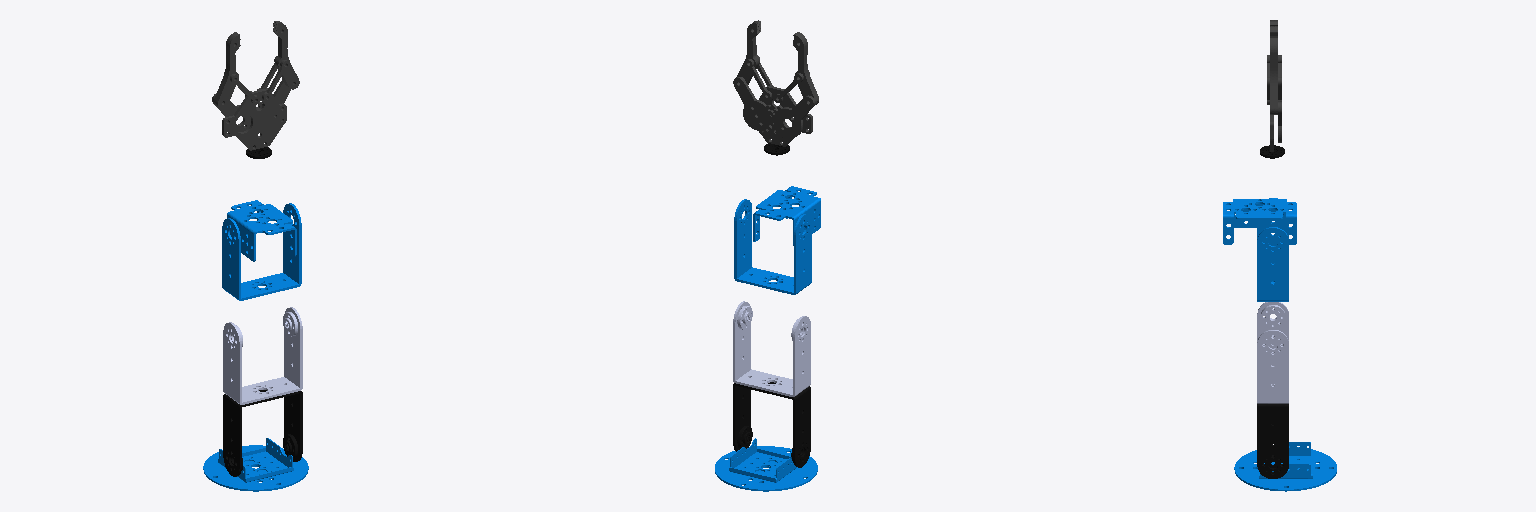
URDF robot description (three in one modify.SLDASM):
<?xml version="1.0" encoding="utf-8"?>
<!-- This URDF was automatically created by SolidWorks to URDF Exporter! Originally created by [author] ([email redacted]) 
     Commit Version: 1.5.0-0-g9aa0fdb  Build Version: 1.5.7004.21443
     For more information, please see http://wiki.ros.org/sw_urdf_exporter -->
<robot
  name="three in one modify.SLDASM">
  <link
    name="base_link">
    <inertial>
      <origin
        xyz="-0.00346933945456242 -0.187455100746242 0.344863277084193"
        rpy="0 0 0" />
      <mass
        value="0.000649886540879608" />
      <inertia
        ixx="1.57694089739825E-08"
        ixy="-1.85712509371615E-11"
        ixz="-1.05002104224578E-14"
        iyy="1.58132571662871E-08"
        iyz="5.0387453413164E-14"
        izz="3.00533238555579E-08" />
    </inertial>
    <visual>
      <origin
        xyz="0 0 0"
        rpy="0 0 0" />
      <geometry>
        <mesh
          filename="package://three in one modify.SLDASM/meshes/base_link.STL" />
      </geometry>
      <material
        name="">
        <color
          rgba="0.0980392156862745 0.0980392156862745 0.0980392156862745 1" />
      </material>
    </visual>
    <collision>
      <origin
        xyz="0 0 0"
        rpy="0 0 0" />
      <geometry>
        <mesh
          filename="package://three in one modify.SLDASM/meshes/base_link.STL" />
      </geometry>
    </collision>
  </link>
  <link
    name="plate_Link">
    <inertial>
      <origin
        xyz="0.00307787898294945 -0.212063205851944 -0.0162575190734835"
        rpy="0 0 0" />
      <mass
        value="0.33999524895747" />
      <inertia
        ixx="0.000521431563785852"
        ixy="-7.44439971942014E-09"
        ixz="-5.60683966135022E-09"
        iyy="0.00068679188020829"
        iyz="1.70292938581666E-08"
        izz="0.000206853385790905" />
    </inertial>
    <visual>
      <origin
        xyz="0 0 0"
        rpy="0 0 0" />
      <geometry>
        <mesh
          filename="package://three in one modify.SLDASM/meshes/plate_Link.STL" />
      </geometry>
      <material
        name="">
        <color
          rgba="0.0980392156862745 0.0980392156862745 0.0980392156862745 1" />
      </material>
    </visual>
    <collision>
      <origin
        xyz="0 0 0"
        rpy="0 0 0" />
      <geometry>
        <mesh
          filename="package://three in one modify.SLDASM/meshes/plate_Link.STL" />
      </geometry>
    </collision>
  </link>
  <joint
    name="plate_joint"
    type="revolute">
    <origin
      xyz="-0.00346935049207066 -0.185955046190881 0.344267945595491"
      rpy="1.5707963267949 0 0" />
    <parent
      link="base_link" />
    <child
      link="plate_Link" />
    <axis
      xyz="0 1 0" />
    <limit
      lower="-1"
      upper="1"
      effort="1000"
      velocity="2" />
    <safety_controller
      k_velocity="0" />
  </joint>
  <link
    name="left_knuckle_Link">
    <inertial>
      <origin
        xyz="-0.0102903979344891 0.00212702235552203 0.00553725280320078"
        rpy="0 0 0" />
      <mass
        value="0.00670041655240986" />
      <inertia
        ixx="9.07025861316121E-07"
        ixy="-9.76336018478275E-08"
        ixz="-1.4425647357174E-14"
        iyy="9.47619204261119E-07"
        iyz="-1.54390617401213E-13"
        izz="1.84459409869109E-06" />
    </inertial>
    <visual>
      <origin
        xyz="0 0 0"
        rpy="0 0 0" />
      <geometry>
        <mesh
          filename="package://three in one modify.SLDASM/meshes/left_knuckle_Link.STL" />
      </geometry>
      <material
        name="">
        <color
          rgba="0.298039215686275 0.298039215686275 0.298039215686275 1" />
      </material>
    </visual>
    <collision>
      <origin
        xyz="0 0 0"
        rpy="0 0 0" />
      <geometry>
        <mesh
          filename="package://three in one modify.SLDASM/meshes/left_knuckle_Link.STL" />
      </geometry>
    </collision>
  </link>
  <joint
    name="left_knuckle_joint"
    type="revolute">
    <origin
      xyz="0.011771 -0.17996 0.37242"
      rpy="1.5708 0 0" />
    <parent
      link="base_link" />
    <child
      link="left_knuckle_Link" />
    <axis
      xyz="0 0 -1" />
    <limit
      lower="-1"
      upper="1"
      effort="1000"
      velocity="2" />
    <safety_controller
      k_velocity="0" />
  </joint>
  <link
    name="right_knuckle_Link">
    <inertial>
      <origin
        xyz="0.0053270533216794 0.00429884669473102 0.00561697418736173"
        rpy="0 0 0" />
      <mass
        value="0.0065706650220916" />
      <inertia
        ixx="8.77365661165877E-07"
        ixy="1.45077204156848E-07"
        ixz="-1.14194769459354E-14"
        iyy="9.69880856340976E-07"
        iyz="-3.17392529864133E-14"
        izz="1.83739003819251E-06" />
    </inertial>
    <visual>
      <origin
        xyz="0 0 0"
        rpy="0 0 0" />
      <geometry>
        <mesh
          filename="package://three in one modify.SLDASM/meshes/right_knuckle_Link.STL" />
      </geometry>
      <material
        name="">
        <color
          rgba="0.298039215686275 0.298039215686275 0.298039215686275 1" />
      </material>
    </visual>
    <collision>
      <origin
        xyz="0 0 0"
        rpy="0 0 0" />
      <geometry>
        <mesh
          filename="package://three in one modify.SLDASM/meshes/right_knuckle_Link.STL" />
      </geometry>
    </collision>
  </link>
  <joint
    name="right_knuckle_joint"
    type="revolute">
    <origin
      xyz="-0.0149074003045468 -0.17995504619088 0.370196071373096"
      rpy="1.5707963267949 0 0" />
    <parent
      link="base_link" />
    <child
      link="right_knuckle_Link" />
    <axis
      xyz="0 0 -1" />
    <limit
      lower="-1"
      upper="1"
      effort="1000"
      velocity="2" />
    <safety_controller
      k_velocity="0" />
  </joint>
  <link
    name="left_upperknuckle_Link">
    <inertial>
      <origin
        xyz="0.00101037954300925 0.00460141507644329 0.0107840374566842"
        rpy="0 0 0" />
      <mass
        value="0.00495743586878886" />
      <inertia
        ixx="1.2489998164633E-06"
        ixy="-1.63217244588323E-13"
        ixz="1.35705432813109E-14"
        iyy="2.23019060664547E-07"
        iyz="-2.8733388356579E-08"
        izz="1.03341714734279E-06" />
    </inertial>
    <visual>
      <origin
        xyz="0 0 0"
        rpy="0 0 0" />
      <geometry>
        <mesh
          filename="package://three in one modify.SLDASM/meshes/left_upperknuckle_Link.STL" />
      </geometry>
      <material
        name="">
        <color
          rgba="0.298039215686275 0.298039215686275 0.298039215686275 1" />
      </material>
    </visual>
    <collision>
      <origin
        xyz="0 0 0"
        rpy="0 0 0" />
      <geometry>
        <mesh
          filename="package://three in one modify.SLDASM/meshes/left_upperknuckle_Link.STL" />
      </geometry>
    </collision>
  </link>
  <joint
    name="left_upperknuckle_joint"
    type="revolute">
    <origin
      xyz="0.028072 -0.18296 0.39641"
      rpy="1.5708 0 -1.5708" />
    <parent
      link="base_link" />
    <child
      link="left_upperknuckle_Link" />
    <axis
      xyz="1 0 0" />
    <limit
      lower="-1"
      upper="1"
      effort="1000"
      velocity="2" />
    <safety_controller
      k_velocity="0" />
  </joint>
  <link
    name="right_upperknuckle_Link">
    <inertial>
      <origin
        xyz="0.00107784632695287 0.00627599956016872 -0.00915527995590619"
        rpy="0 0 0" />
      <mass
        value="0.00482768433847063" />
      <inertia
        ixx="1.24179575596474E-06"
        ixy="-2.90994021845089E-14"
        ixz="1.03111625009509E-14"
        iyy="2.45280712744405E-07"
        iyz="2.70472085906696E-08"
        izz="1.00375694719255E-06" />
    </inertial>
    <visual>
      <origin
        xyz="0 0 0"
        rpy="0 0 0" />
      <geometry>
        <mesh
          filename="package://three in one modify.SLDASM/meshes/right_upperknuckle_Link.STL" />
      </geometry>
      <material
        name="">
        <color
          rgba="0.298039215686275 0.298039215686275 0.298039215686275 1" />
      </material>
    </visual>
    <collision>
      <origin
        xyz="0 0 0"
        rpy="0 0 0" />
      <geometry>
        <mesh
          filename="package://three in one modify.SLDASM/meshes/right_upperknuckle_Link.STL" />
      </geometry>
    </collision>
  </link>
  <joint
    name="right_upperknuckle_joint"
    type="revolute">
    <origin
      xyz="-0.0350827580332564 -0.18295504619088 0.394387080866216"
      rpy="1.5707963267949 0 -1.5707963267949" />
    <parent
      link="base_link" />
    <child
      link="right_upperknuckle_Link" />
    <axis
      xyz="1 0 0" />
    <limit
      lower="-1"
      upper="1"
      effort="1000"
      velocity="2" />
    <safety_controller
      k_velocity="0" />
  </joint>
  <link
    name="left_innerknuckle_Link">
    <inertial>
      <origin
        xyz="-0.0038005233206086 -0.0134056174592666 0.00127950585628442"
        rpy="0 0 0" />
      <mass
        value="0.00528549093724204" />
      <inertia
        ixx="7.33366576401042E-07"
        ixy="-2.14791548573843E-08"
        ixz="2.07612702263158E-17"
        iyy="8.13551075528335E-07"
        iyz="1.75634885660641E-17"
        izz="1.53898932102994E-06" />
    </inertial>
    <visual>
      <origin
        xyz="0 0 0"
        rpy="0 0 0" />
      <geometry>
        <mesh
          filename="package://three in one modify.SLDASM/meshes/left_innerknuckle_Link.STL" />
      </geometry>
      <material
        name="">
        <color
          rgba="0.298039215686275 0.298039215686275 0.298039215686275 1" />
      </material>
    </visual>
    <collision>
      <origin
        xyz="0 0 0"
        rpy="0 0 0" />
      <geometry>
        <mesh
          filename="package://three in one modify.SLDASM/meshes/left_innerknuckle_Link.STL" />
      </geometry>
    </collision>
  </link>
  <joint
    name="left_innerknuckle_joint"
    type="revolute">
    <origin
      xyz="0.0015306 -0.18596 0.39074"
      rpy="1.5708 0 0" />
    <parent
      link="base_link" />
    <child
      link="left_innerknuckle_Link" />
    <axis
      xyz="0 0 -1" />
    <limit
      lower="-1"
      upper="1"
      effort="1000"
      velocity="2" />
    <safety_controller
      k_velocity="0" />
  </joint>
  <link
    name="right_innerknuckle_Link">
    <inertial>
      <origin
        xyz="0.00366626793478309 -0.0150315862886758 0.00127950585628445"
        rpy="0 0 0" />
      <mass
        value="0.00528549093724205" />
      <inertia
        ixx="7.24372164400222E-07"
        ixy="6.98106926886216E-08"
        ixz="2.1537533754777E-17"
        iyy="8.22545487526953E-07"
        iyz="1.69285482208447E-17"
        izz="1.53898932102774E-06" />
    </inertial>
    <visual>
      <origin
        xyz="0 0 0"
        rpy="0 0 0" />
      <geometry>
        <mesh
          filename="package://three in one modify.SLDASM/meshes/right_innerknuckle_Link.STL" />
      </geometry>
      <material
        name="">
        <color
          rgba="0.298039215686275 0.298039215686275 0.298039215686275 1" />
      </material>
    </visual>
    <collision>
      <origin
        xyz="0 0 0"
        rpy="0 0 0" />
      <geometry>
        <mesh
          filename="package://three in one modify.SLDASM/meshes/right_innerknuckle_Link.STL" />
      </geometry>
    </collision>
  </link>
  <joint
    name="right_innerknuckle_joint"
    type="revolute">
    <origin
      xyz="-0.0099694 -0.18596 0.39224"
      rpy="1.5708 0 0" />
    <parent
      link="base_link" />
    <child
      link="right_innerknuckle_Link" />
    <axis
      xyz="0 0 1" />
    <limit
      lower="-1"
      upper="1"
      effort="1000"
      velocity="2" />
    <safety_controller
      k_velocity="0" />
  </joint>
  <link
    name="right_gripper_Link">
    <inertial>
      <origin
        xyz="0.00299999992482775 -0.00166044078913841 0.00056762135300294"
        rpy="0 0 0" />
      <mass
        value="0.00354251025362108" />
      <inertia
        ixx="9.43395038799959E-07"
        ixy="2.65677935016094E-15"
        ixz="-1.12985197869383E-15"
        iyy="9.79453439303817E-08"
        iyz="1.02313720058896E-07"
        izz="8.50763450426895E-07" />
    </inertial>
    <visual>
      <origin
        xyz="0 0 0"
        rpy="0 0 0" />
      <geometry>
        <mesh
          filename="package://three in one modify.SLDASM/meshes/right_gripper_Link.STL" />
      </geometry>
      <material
        name="">
        <color
          rgba="0.298039215686275 0.298039215686275 0.298039215686275 1" />
      </material>
    </visual>
    <collision>
      <origin
        xyz="0 0 0"
        rpy="0 0 0" />
      <geometry>
        <mesh
          filename="package://three in one modify.SLDASM/meshes/right_gripper_Link.STL" />
      </geometry>
    </collision>
  </link>
  <joint
    name="right_gripper_joint"
    type="revolute">
    <origin
      xyz="-0.026401 -0.18296 0.41587"
      rpy="1.5708 0 -1.5708" />
    <parent
      link="base_link" />
    <child
      link="right_gripper_Link" />
    <axis
      xyz="-1 0 0" />
    <limit
      lower="-1"
      upper="1"
      effort="1000"
      velocity="2" />
    <safety_controller
      k_velocity="0" />
  </joint>
  <link
    name="left_gripper_Link">
    <inertial>
      <origin
        xyz="0.00299999992481781 -0.00184838869285076 -0.000816903573842995"
        rpy="0 0 0" />
      <mass
        value="0.00354251025362103" />
      <inertia
        ixx="9.4339503880215E-07"
        ixy="-2.65755610514477E-15"
        ixz="-1.12907613249926E-15"
        iyy="8.89509319317603E-08"
        iyz="-1.04887835347022E-07"
        izz="8.59757862427709E-07" />
    </inertial>
    <visual>
      <origin
        xyz="0 0 0"
        rpy="0 0 0" />
      <geometry>
        <mesh
          filename="package://three in one modify.SLDASM/meshes/left_gripper_Link.STL" />
      </geometry>
      <material
        name="">
        <color
          rgba="0.298039215686275 0.298039215686275 0.298039215686275 1" />
      </material>
    </visual>
    <collision>
      <origin
        xyz="0 0 0"
        rpy="0 0 0" />
      <geometry>
        <mesh
          filename="package://three in one modify.SLDASM/meshes/left_gripper_Link.STL" />
      </geometry>
    </collision>
  </link>
  <joint
    name="left_gripper_joint"
    type="revolute">
    <origin
      xyz="0.017189 -0.18296 0.41758"
      rpy="1.5708 0 -1.5708" />
    <parent
      link="base_link" />
    <child
      link="left_gripper_Link" />
    <axis
      xyz="-1 0 0" />
    <limit
      lower="-1"
      upper="1"
      effort="1000"
      velocity="2" />
    <safety_controller
      k_velocity="0" />
  </joint>
  <link
    name="top_Link">
    <inertial>
      <origin
        xyz="-0.0263106321627168 -0.0172686109324065 -0.00535994998866896"
        rpy="0 0 0" />
      <mass
        value="0.0123889307378301" />
      <inertia
        ixx="5.02837131438049E-06"
        ixy="1.31589557882473E-07"
        ixz="1.41287951711126E-07"
        iyy="7.05725820585874E-06"
        iyz="-4.99506386348457E-09"
        izz="8.88412241134963E-06" />
    </inertial>
    <visual>
      <origin
        xyz="0 0 0"
        rpy="0 0 0" />
      <geometry>
        <mesh
          filename="package://three in one modify.SLDASM/meshes/top_Link.STL" />
      </geometry>
      <material
        name="">
        <color
          rgba="0.0274509803921569 0.564705882352941 0.949019607843137 1" />
      </material>
    </visual>
    <collision>
      <origin
        xyz="0 0 0"
        rpy="0 0 0" />
      <geometry>
        <mesh
          filename="package://three in one modify.SLDASM/meshes/top_Link.STL" />
      </geometry>
    </collision>
  </link>
  <joint
    name="top_joint"
    type="revolute">
    <origin
      xyz="-0.03025 -0.18411 0.28112"
      rpy="1.5708 -0.0027146 3.105" />
    <parent
      link="base_link" />
    <child
      link="top_Link" />
    <axis
      xyz="-1 0 0" />
    <limit
      lower="-1"
      upper="1"
      effort="1000"
      velocity="1" />
    <safety_controller
      k_velocity="0" />
  </joint>
  <link
    name="mid_Link">
    <inertial>
      <origin
        xyz="0.02769729966379 -0.0236177559642039 0.00013363538316985"
        rpy="0 0 0" />
      <mass
        value="0.00969296497618821" />
      <inertia
        ixx="3.67091395658714E-06"
        ixy="-8.82376425943415E-09"
        ixz="4.69335990312016E-08"
        iyy="5.19943984950876E-06"
        iyz="2.49422049303399E-10"
        izz="7.92219145683879E-06" />
    </inertial>
    <visual>
      <origin
        xyz="0 0 0"
        rpy="0 0 0" />
      <geometry>
        <mesh
          filename="package://three in one modify.SLDASM/meshes/mid_Link.STL" />
      </geometry>
      <material
        name="">
        <color
          rgba="0.792156862745098 0.819607843137255 0.933333333333333 1" />
      </material>
    </visual>
    <collision>
      <origin
        xyz="0 0 0"
        rpy="0 0 0" />
      <geometry>
        <mesh
          filename="package://three in one modify.SLDASM/meshes/mid_Link.STL" />
      </geometry>
    </collision>
  </link>
  <joint
    name="mid_joint"
    type="revolute">
    <origin
      xyz="-0.0269 -0.18628 0.19089"
      rpy="1.5708 0.0057717 -0.011031" />
    <parent
      link="base_link" />
    <child
      link="mid_Link" />
    <axis
      xyz="-1 0 0" />
    <limit
      lower="-1"
      upper="1"
      effort="1000"
      velocity="1" />
    <safety_controller
      k_velocity="0" />
  </joint>
  <link
    name="lower_Link">
    <inertial>
      <origin
        xyz="0.0286194840494517 0.0246875643031201 0.00106148578619783"
        rpy="0 0 0" />
      <mass
        value="0.00969296497618863" />
      <inertia
        ixx="3.67043462176264E-06"
        ixy="9.18156300880172E-09"
        ixz="-1.21211322427166E-08"
        iyy="5.19938033866164E-06"
        iyz="9.42666382747788E-11"
        izz="7.92273030251123E-06" />
    </inertial>
    <visual>
      <origin
        xyz="0 0 0"
        rpy="0 0 0" />
      <geometry>
        <mesh
          filename="package://three in one modify.SLDASM/meshes/lower_Link.STL" />
      </geometry>
      <material
        name="">
        <color
          rgba="0.0980392156862745 0.0980392156862745 0.0980392156862745 1" />
      </material>
    </visual>
    <collision>
      <origin
        xyz="0 0 0"
        rpy="0 0 0" />
      <geometry>
        <mesh
          filename="package://three in one modify.SLDASM/meshes/lower_Link.STL" />
      </geometry>
    </collision>
  </link>
  <joint
    name="lower_joint"
    type="fixed">
    <origin
      xyz="-0.027816 -0.18573 0.089223"
      rpy="1.5708 -0.0060049 0.0028434" />
    <parent
      link="base_link" />
    <child
      link="lower_Link" />
    <axis
      xyz="0 0 0" />
    <limit
      lower="-1"
      upper="1"
      effort="1000"
      velocity="1" />
    <safety_controller
      k_velocity="0" />
  </joint>
  <link
    name="lowerplate_link">
    <inertial>
      <origin
        xyz="0.000120467603388755 -4.13839093707667E-05 0.00443674982274356"
        rpy="0 0 0" />
      <mass
        value="0.0100426099736623" />
      <inertia
        ixx="7.27899668663442E-06"
        ixy="5.75386591169484E-15"
        ixz="6.84276555152292E-09"
        iyy="3.55123319570022E-06"
        iyz="-1.88381734358784E-10"
        izz="3.78776749038145E-06" />
    </inertial>
    <visual>
      <origin
        xyz="0 0 0"
        rpy="0 0 0" />
      <geometry>
        <mesh
          filename="package://three in one modify.SLDASM/meshes/lowerplate_link.STL" />
      </geometry>
      <material
        name="">
        <color
          rgba="0.0274509803921569 0.564705882352941 0.949019607843137 1" />
      </material>
    </visual>
    <collision>
      <origin
        xyz="0 0 0"
        rpy="0 0 0" />
      <geometry>
        <mesh
          filename="package://three in one modify.SLDASM/meshes/lowerplate_link.STL" />
      </geometry>
    </collision>
  </link>
  <joint
    name="lowerplate_joint"
    type="revolute">
    <origin
      xyz="0 -0.17221 0.072597"
      rpy="1.5708 -1.5708 0" />
    <parent
      link="base_link" />
    <child
      link="lowerplate_link" />
    <axis
      xyz="-1 0 0" />
    <limit
      lower="-1"
      upper="1"
      effort="1000"
      velocity="1" />
    <safety_controller
      k_velocity="0" />
  </joint>
</robot>

--- Facts derived from the render (not from the file) ---
Views: 3 orthographic renders of the robot side by side, from view 1: azimuth 30°, elevation 25°; view 2: azimuth 150°, elevation 25°; view 3: azimuth 270°, elevation 25°.
Robot: three in one modify.SLDASM — 14 links, 13 joints (12 revolute, 1 fixed); root link base_link; default pose: every joint at zero.
Links seen in each view (by area): view 1: top_Link, mid_Link, lowerplate_link, lower_Link, left_knuckle_Link, right_gripper_Link, right_knuckle_Link, left_gripper_Link; view 2: top_Link, mid_Link, lowerplate_link, lower_Link, right_knuckle_Link, left_upperknuckle_Link; view 3: top_Link, mid_Link, lowerplate_link, lower_Link.
Link boxes in pixels (left/top/right/bottom): top_Link: left=222, top=200, right=301, bottom=300; mid_Link: left=223, top=307, right=302, bottom=404; lowerplate_link: left=203, top=438, right=308, bottom=491; lower_Link: left=223, top=390, right=302, bottom=476; left_knuckle_Link: left=222, top=82, right=290, bottom=150; right_gripper_Link: left=214, top=32, right=259, bottom=108; right_knuckle_Link: left=212, top=88, right=284, bottom=148; left_gripper_Link: left=273, top=23, right=299, bottom=89; top_Link: left=734, top=186, right=820, bottom=294; mid_Link: left=733, top=301, right=810, bottom=396; lowerplate_link: left=715, top=438, right=817, bottom=491; lower_Link: left=733, top=382, right=810, bottom=467; right_knuckle_Link: left=753, top=86, right=815, bottom=146; left_upperknuckle_Link: left=733, top=20, right=773, bottom=133; top_Link: left=1223, top=198, right=1296, bottom=301; mid_Link: left=1257, top=302, right=1288, bottom=403; lowerplate_link: left=1234, top=442, right=1336, bottom=491; lower_Link: left=1257, top=404, right=1288, bottom=478.
Size in the robot's own frame: 0.0815 by 0.0903 by 0.3805 metres.
13 mesh visuals loaded from 14 distinct referenced files (13 binary STL); not drawn: 1 (reference not matched to a file when rendering).